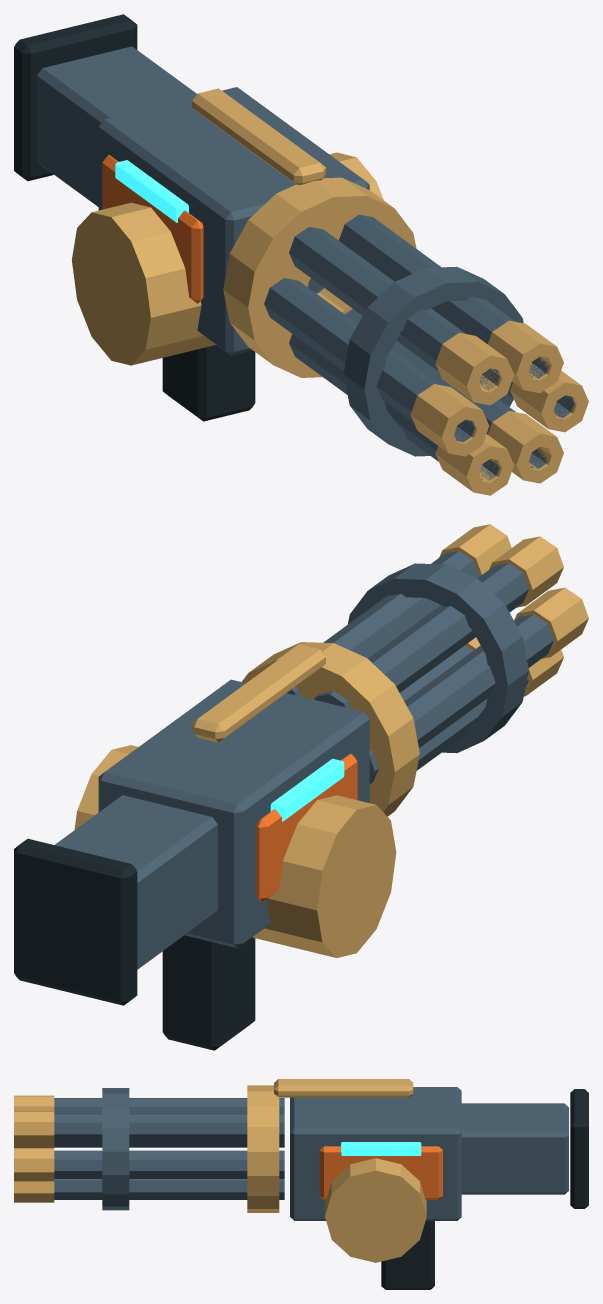
Rendered from wildspark-repeater.glb.
3 views of the same model, one above another, from view 1: azimuth 30°, elevation 25°; view 2: azimuth 150°, elevation 25°; view 3: azimuth 270°, elevation 25° (orthographic). The views are drawn at different scales.
Visible parts, largest first — view 1: WildsparkReceiver, WildsparkRotor; view 2: WildsparkReceiver, WildsparkRotor; view 3: WildsparkReceiver, WildsparkRotor.
Part boxes in pixels (x1,y1,x2,y2): WildsparkReceiver: [14, 14, 383, 421]; WildsparkRotor: [223, 177, 588, 495]; WildsparkReceiver: [14, 644, 396, 1050]; WildsparkRotor: [242, 524, 588, 816]; WildsparkReceiver: [274, 1079, 588, 1289]; WildsparkRotor: [14, 1085, 284, 1212].
Size of the model in its own units: 0.34 by 0.4125 by 1.07.
